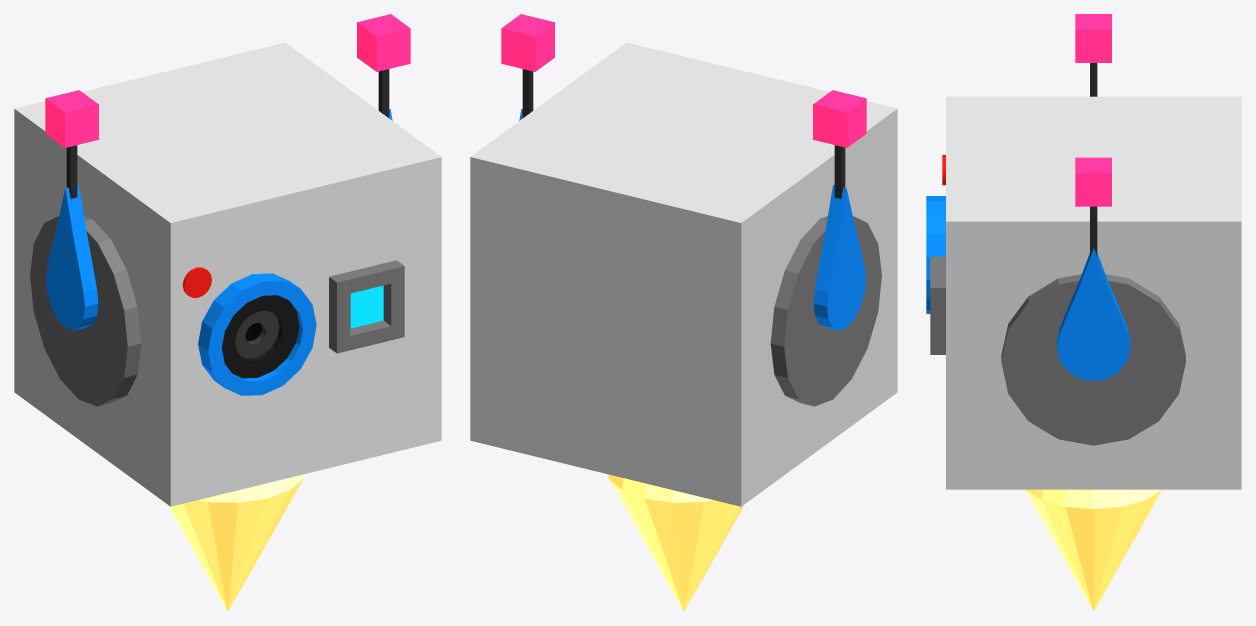
The model's file is bot.glb.
3 renders of one model, left to right at view 1: azimuth 30°, elevation 25°; view 2: azimuth 150°, elevation 25°; view 3: azimuth 270°, elevation 25°, orthographic. The views are drawn at different scales.
Parts seen in each view (by area): view 1: bot, bot-antena-base.R, bot-flame-glow, bot-camera, bot-antena-mount.R, bot-laser-frame, bot-camera-lens-big, bot-antena-glow.L, bot-antena-glow.R, bot-camera-lens-small, bot-laser, bot-led-glow.001 (+1 smaller); view 2: bot, bot-antena-base.R, bot-flame-glow, bot-antena-mount.R, bot-antena-glow.L, bot-antena-glow.R, bot-antena.R; view 3: bot, bot-antena-base.L, bot-flame-glow, bot-antena-mount.L, bot-antena-glow.L, bot-antena-glow.R, bot-laser-frame, bot-camera.
Part boxes in pixels (x1,y1,x2,y2): bot: (14, 42, 441, 506); bot-antena-base.R: (30, 216, 141, 406); bot-flame-glow: (167, 474, 304, 611); bot-camera: (198, 273, 316, 395); bot-antena-mount.R: (45, 185, 98, 330); bot-laser-frame: (329, 260, 404, 353); bot-camera-lens-big: (222, 295, 299, 378); bot-antena-glow.L: (357, 14, 410, 71); bot-antena-glow.R: (45, 90, 98, 147); bot-camera-lens-small: (235, 311, 279, 358); bot-laser: (350, 285, 383, 328); bot-led-glow.001: (182, 267, 211, 297); bot: (470, 42, 897, 506); bot-antena-base.R: (770, 216, 881, 406); bot-flame-glow: (607, 474, 744, 611); bot-antena-mount.R: (813, 185, 866, 330); bot-antena-glow.L: (501, 14, 554, 71); bot-antena-glow.R: (813, 90, 866, 147); bot-antena.R: (834, 145, 845, 198); bot: (946, 96, 1241, 489); bot-antena-base.L: (1001, 274, 1185, 445); bot-flame-glow: (1025, 489, 1161, 611); bot-antena-mount.L: (1056, 248, 1130, 380); bot-antena-glow.L: (1075, 157, 1111, 206); bot-antena-glow.R: (1075, 14, 1111, 62); bot-laser-frame: (930, 256, 945, 354); bot-camera: (926, 196, 945, 313).
Size of the model in its own units: 0.51 by 0.7737 by 0.4262.
